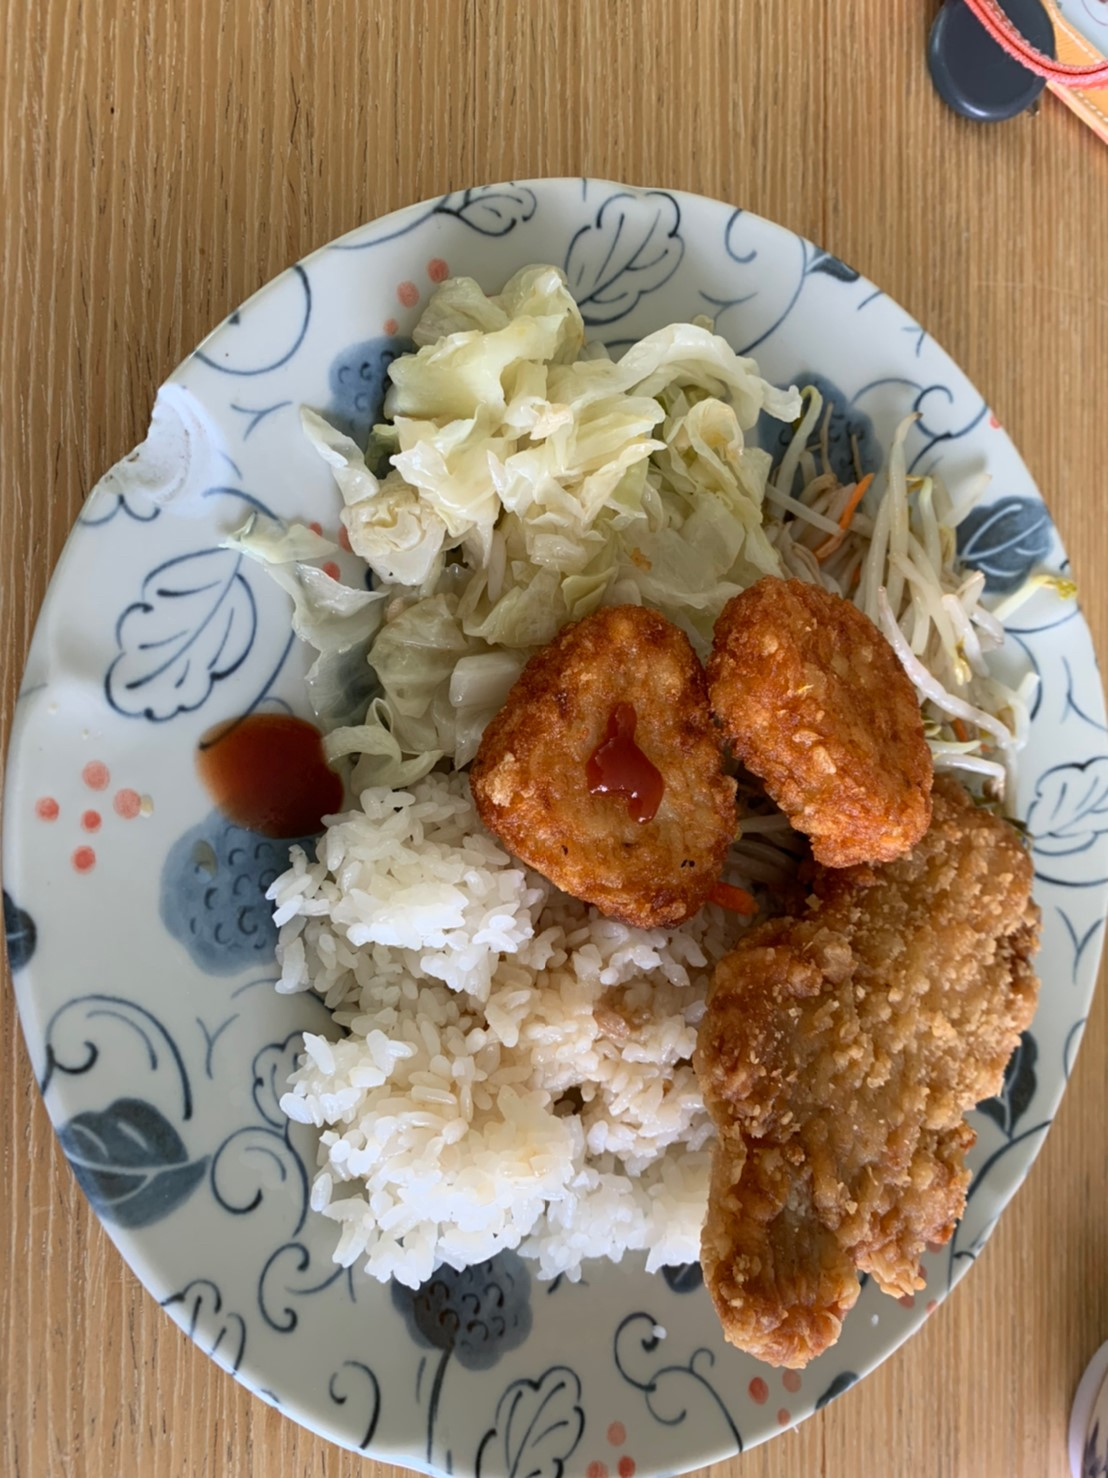chinese_cabbage: (383, 333, 779, 619)
fried_chicken: (729, 816, 1008, 1333)
mung_bean_sprouts: (865, 472, 1014, 747)
rice: (324, 928, 686, 1237)
triangle_hash_brown: (489, 589, 905, 893)
